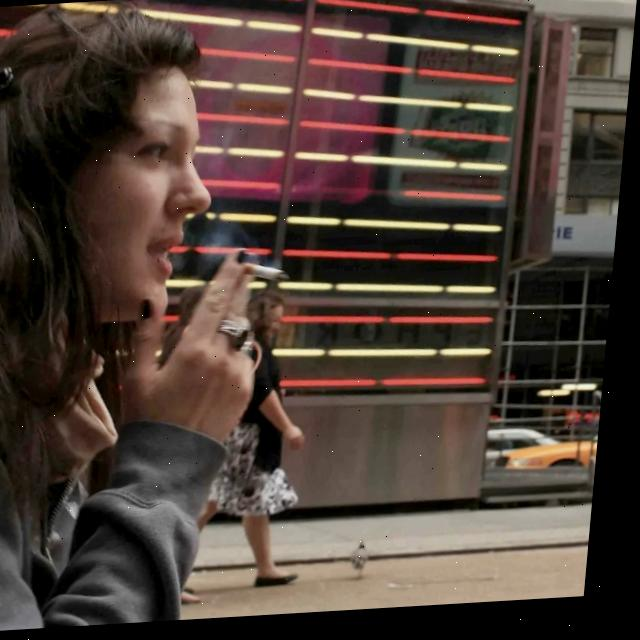cigarette: (246, 264, 296, 287)
